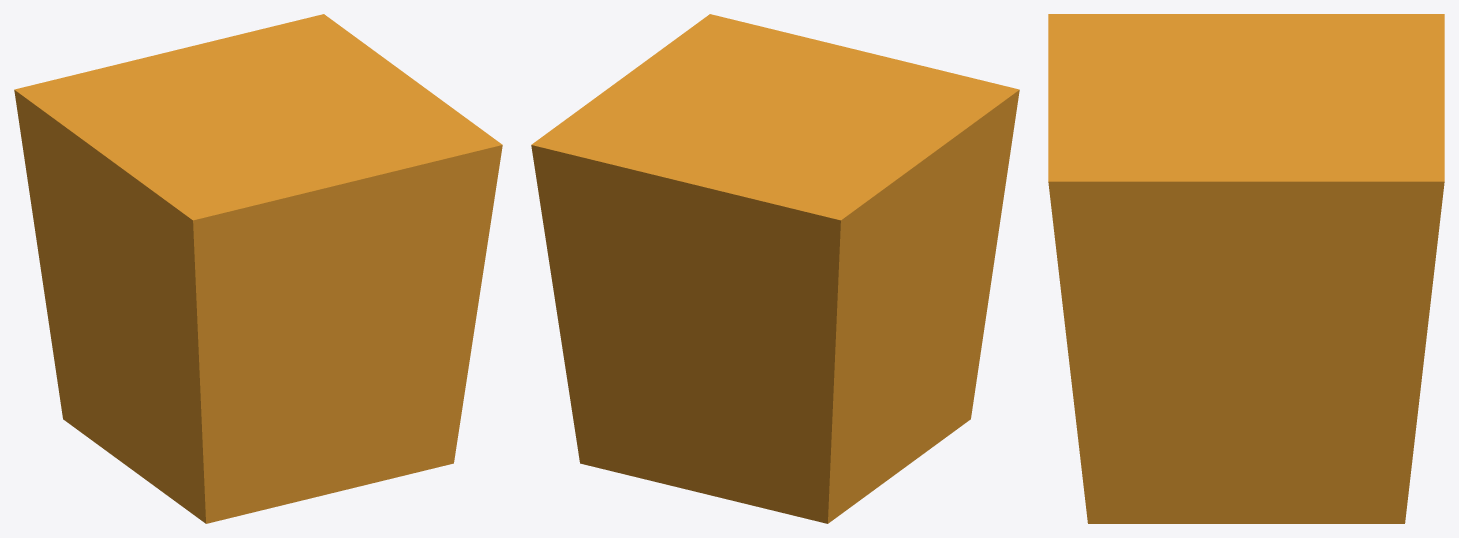
The model's file is example_beaker.dae.
The picture shows the model from 3 angles, left to right: view 1: azimuth 30°, elevation 25°; view 2: azimuth 150°, elevation 25°; view 3: azimuth 270°, elevation 25°; orthographic projection. The views are drawn at different scales.
Parts seen in each view (by area): view 1: beaker-node; view 2: beaker-node; view 3: beaker-node.
Part boxes in pixels (x1,y1,x2,y2): beaker-node: (14,14,502,523); beaker-node: (531,14,1019,523); beaker-node: (1048,14,1444,523).
Bounding box in the file's own units: 1 × 1 × 1.
